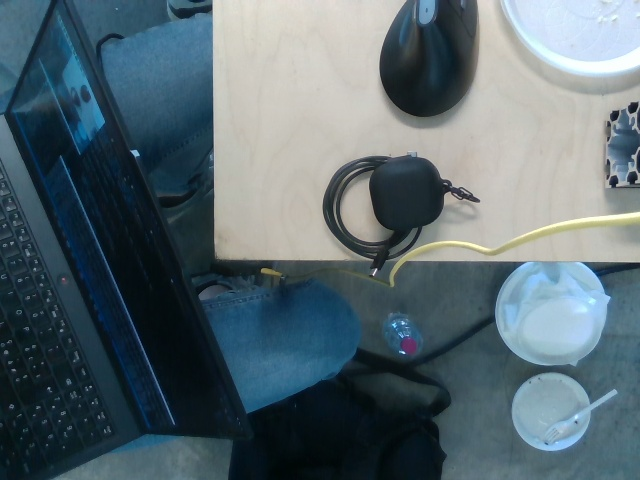cube_hackaton: (371, 154, 445, 229)
